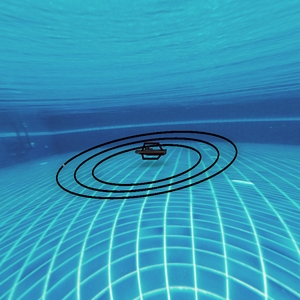circle: (47, 74, 257, 278)
submarine: (138, 142, 169, 163), (128, 151, 157, 169), (157, 143, 162, 153)
